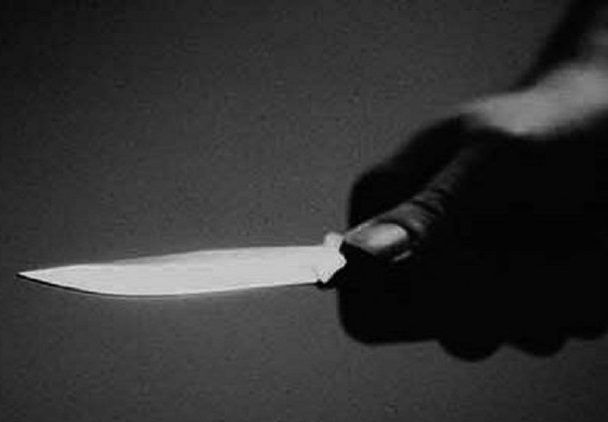knife: (9, 218, 444, 307)
